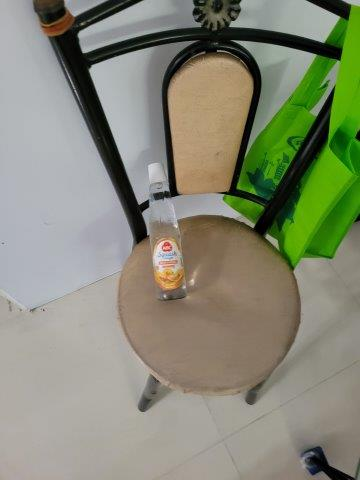botolkaca: (146, 162, 189, 301)
